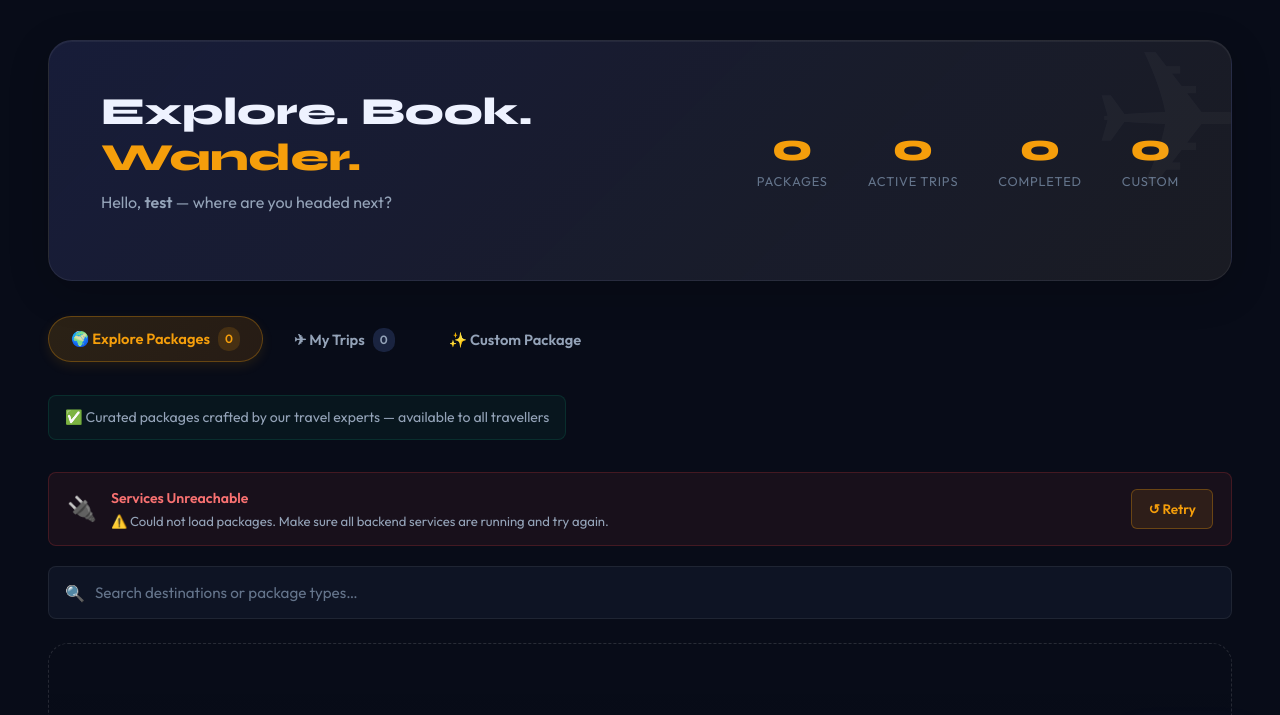
Dashboard Page › handles API errors gracefully
Expected: the text "Could not load packages" is shown, [111,513,609,529]
What coordinates should you click on to do the following:
click the button "✈ My Trips 0"
I would click on:
 (344, 340)
Its box is [271,316,418,363].
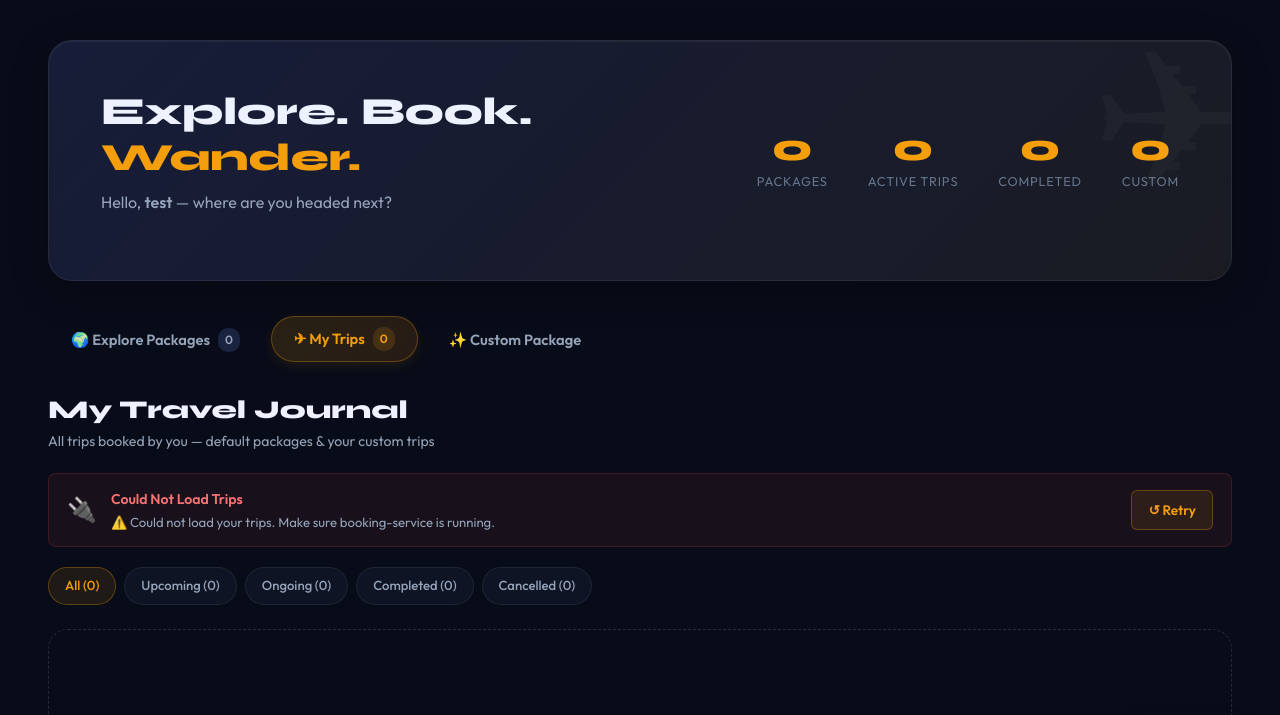
Now the text "Could Not Load Trips" is shown, box [111,490,243,508]
